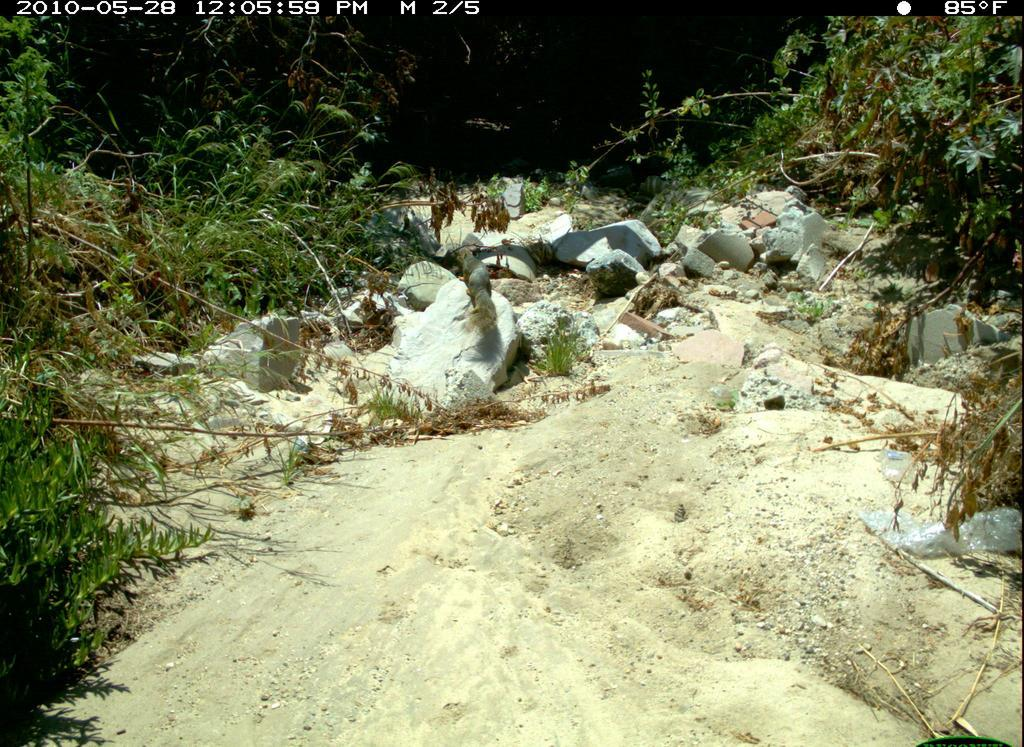squirrel: (451, 233, 508, 344)
